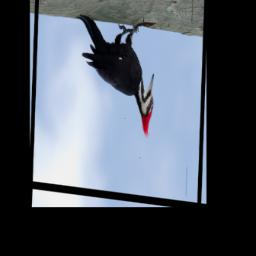Woodpecker: (73, 9, 156, 138)
